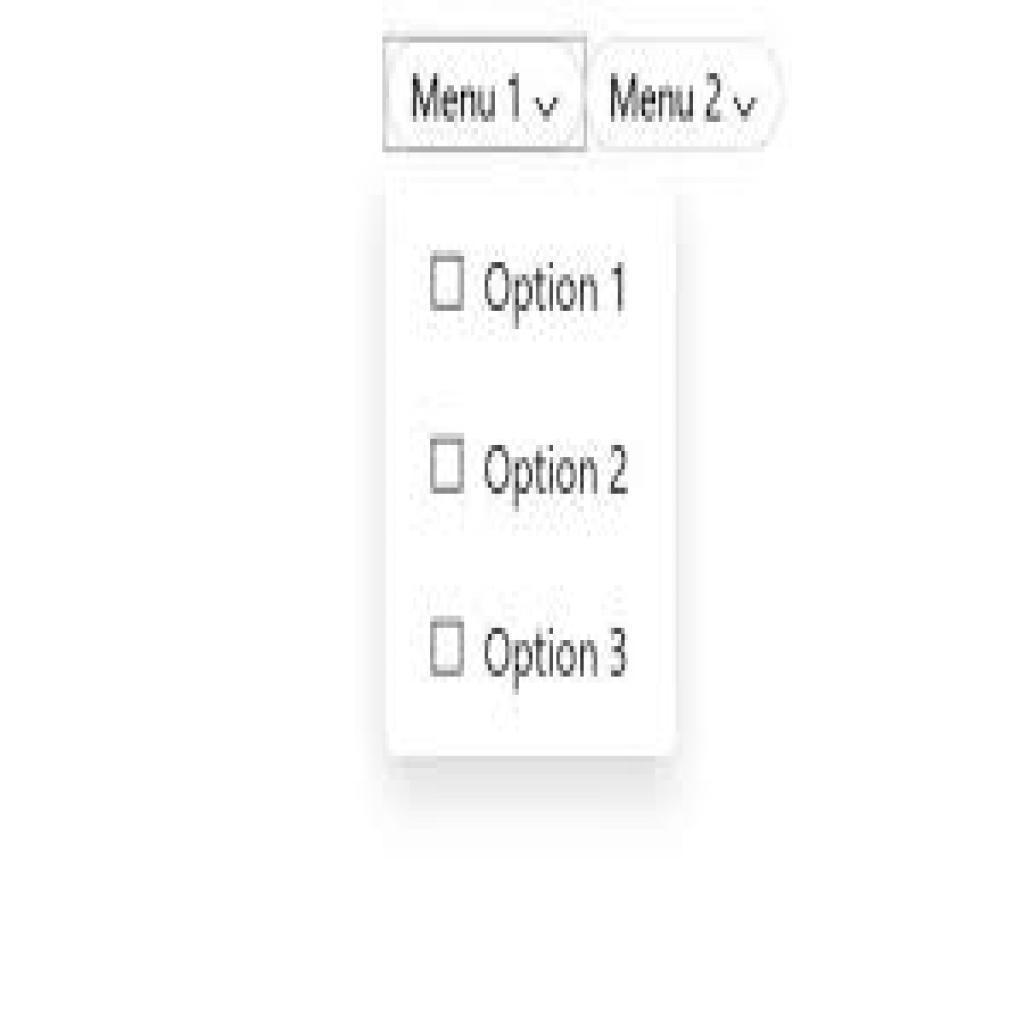checkbox: (430, 440, 466, 495), (433, 258, 467, 310), (432, 622, 463, 677)
dropdown: (384, 36, 580, 153), (588, 38, 781, 151)
label: (476, 615, 633, 689), (479, 434, 631, 510), (484, 255, 634, 320)
